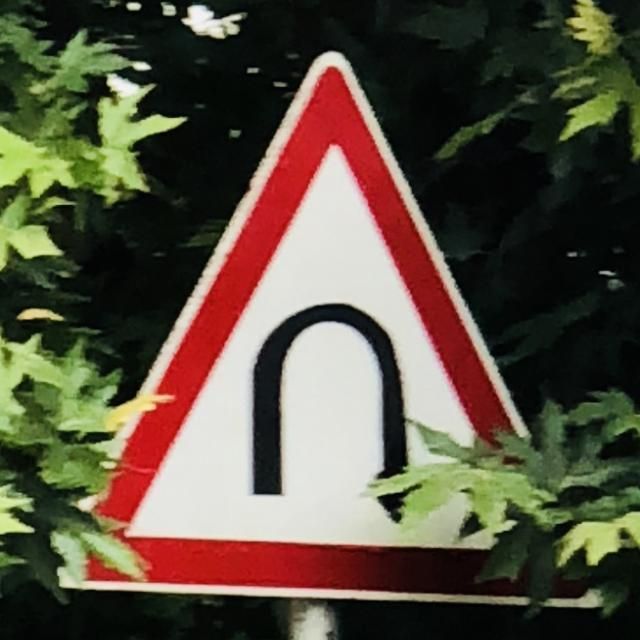u turn: (57, 61, 603, 602)
